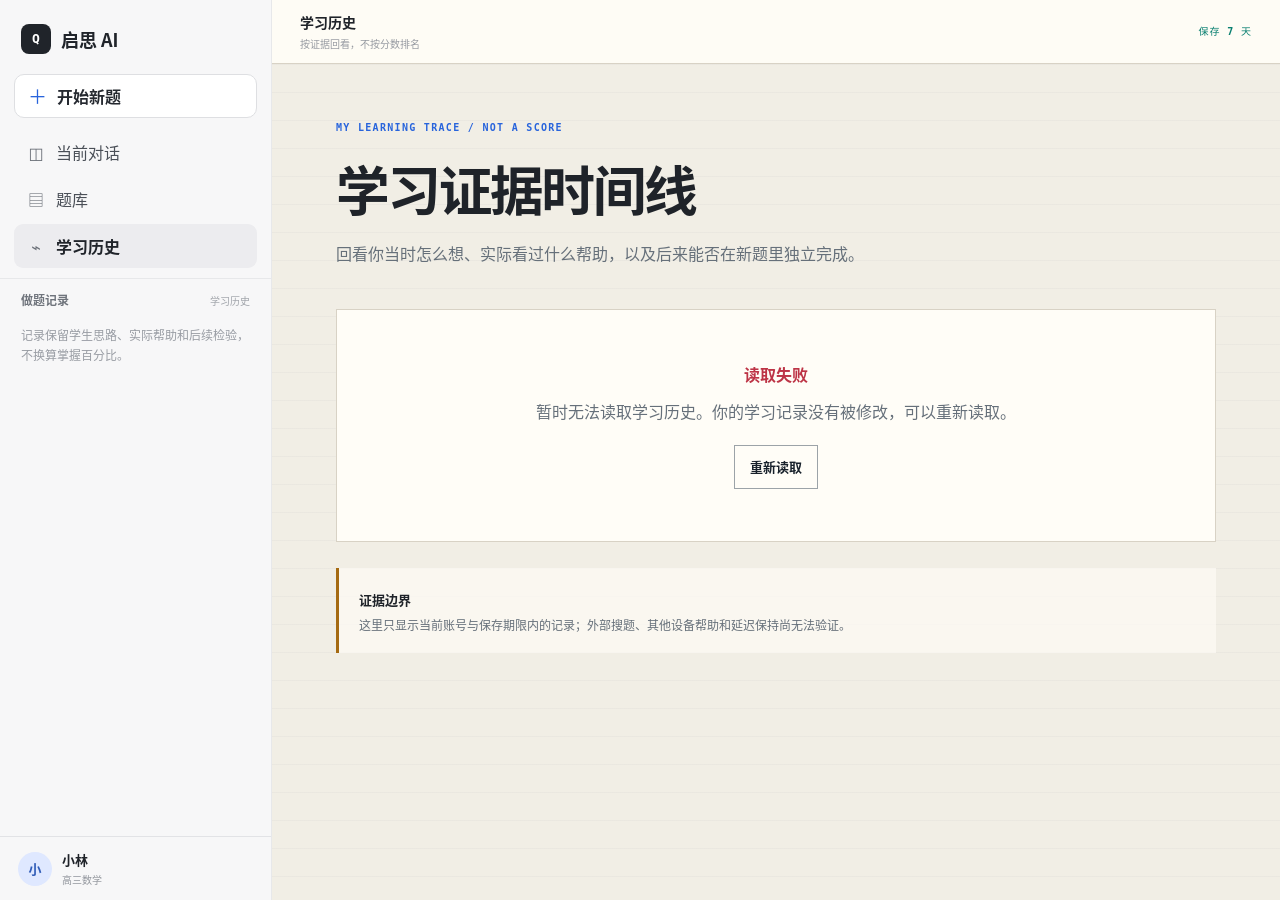
Test: HistoryPage › recovers from a load failure without leaving the page stuck
The image size is (1280, 900).
expect the message shows "暂时无法读取学习历史": met, box [536,399,1016,423]
Click the button "重新读取". click: (776, 467)
box: [734,445,818,489]
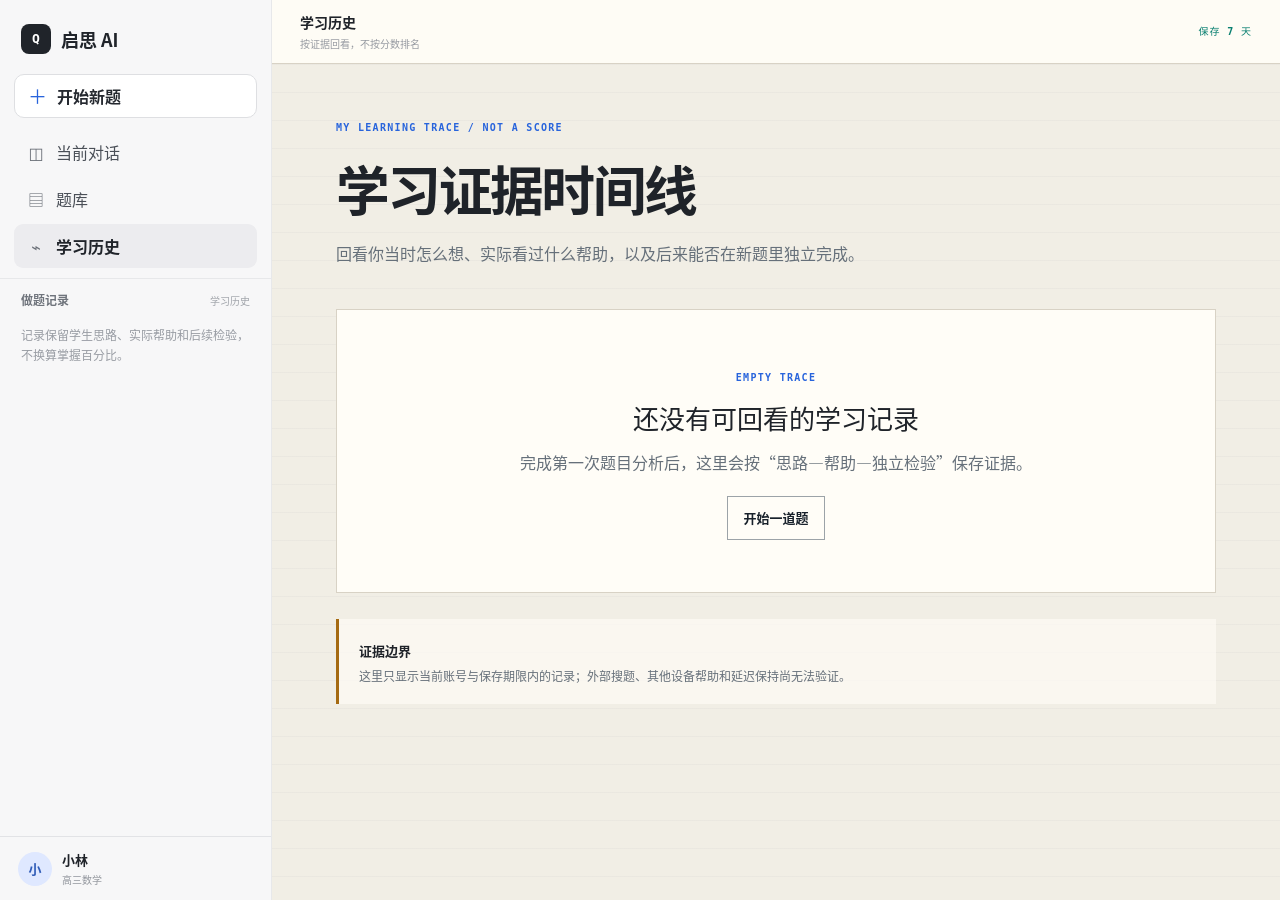
expect the heading "还没有可回看的学习记录" is shown: met, box [633,399,919,436]
